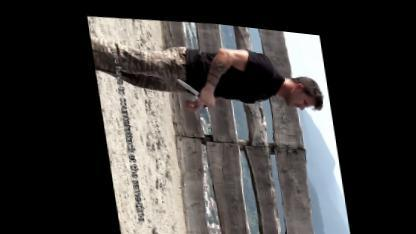knife: (171, 69, 214, 104)
